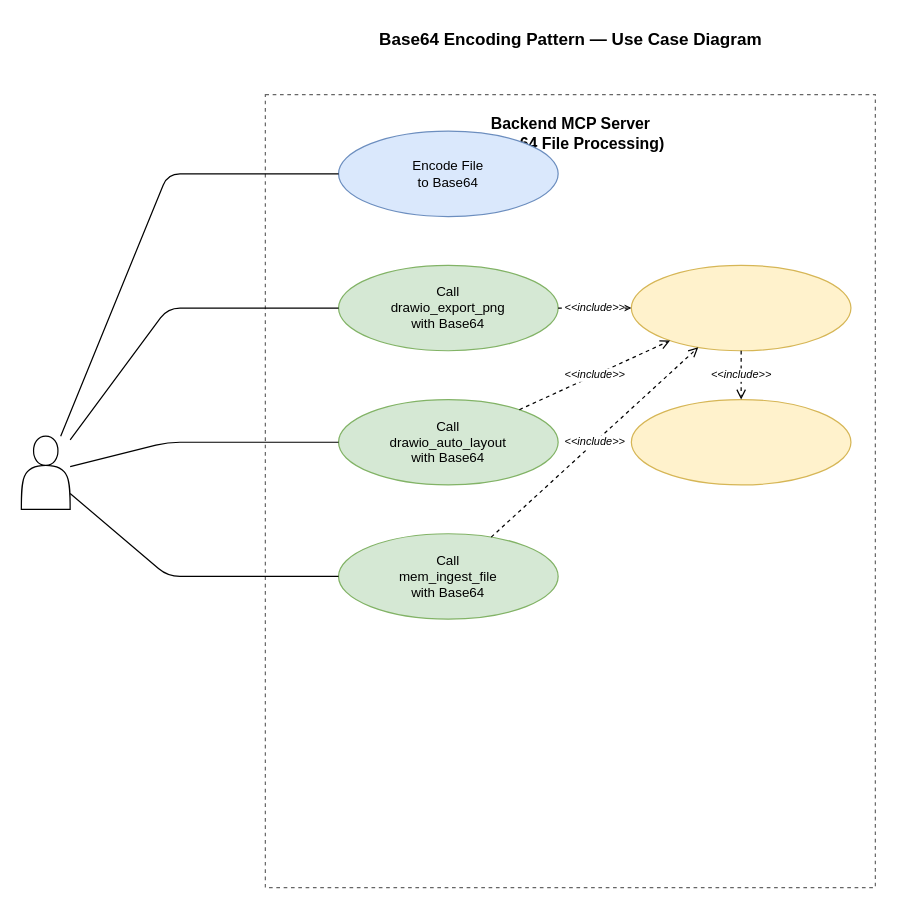
Image size: 897x909. Some labels were removed from this diagram. The centre of each missing label's shape, as x and y in pixels:
AI Agent (Client): the point at 45,472
Decode Base64 to Buffer: the point at 740,307
Process Buffer: Export / Layout / Ingest: the point at 740,441
